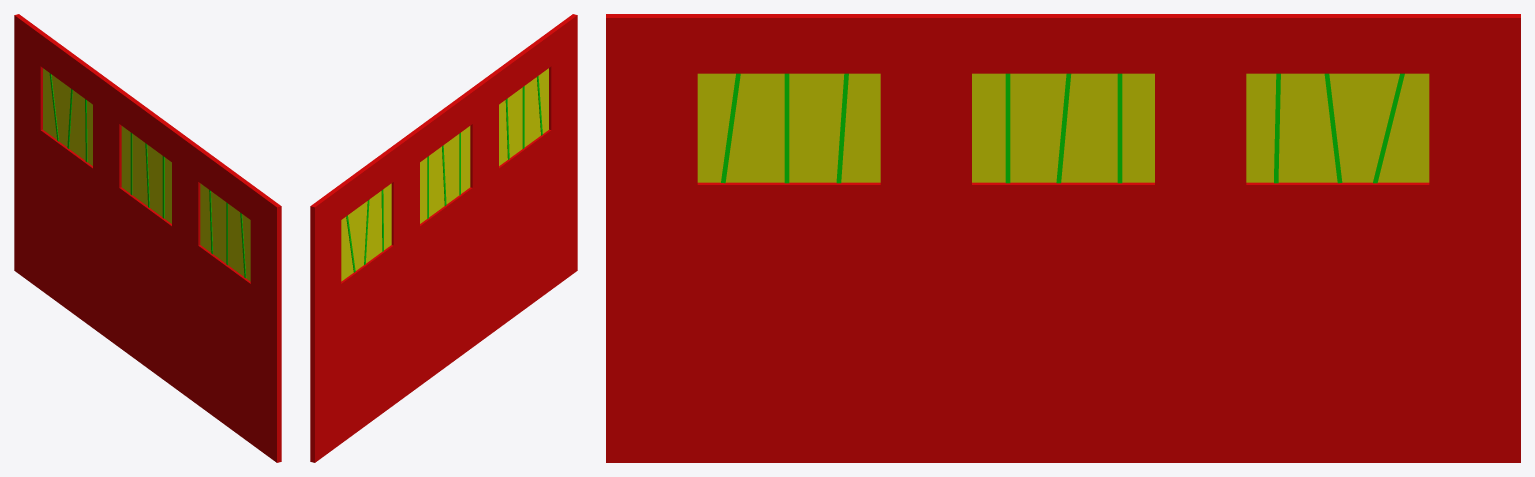
Rendered from factory_wall_03.fbx.
3 renders of one model, left to right at view 1: azimuth 30°, elevation 25°; view 2: azimuth 150°, elevation 25°; view 3: azimuth 270°, elevation 25°, orthographic. The views are drawn at different scales.
Visible parts, largest first — view 1: wall_01, windowpanels, windowframes; view 2: wall_01, windowpanels, windowframes; view 3: wall_01, windowpanels, windowframes.
Boxes of the visible parts, <box> form: wall_01: <box>14,14,281,462</box>; windowpanels: <box>43,68,250,281</box>; windowframes: <box>49,73,246,278</box>; wall_01: <box>310,14,577,462</box>; windowpanels: <box>341,68,548,281</box>; windowframes: <box>346,76,542,272</box>; wall_01: <box>606,14,1520,462</box>; windowpanels: <box>697,73,1429,182</box>; windowframes: <box>721,73,1404,183</box>.
Bounding box in the file's own units: 0.5 × 26.36 × 49.09.
